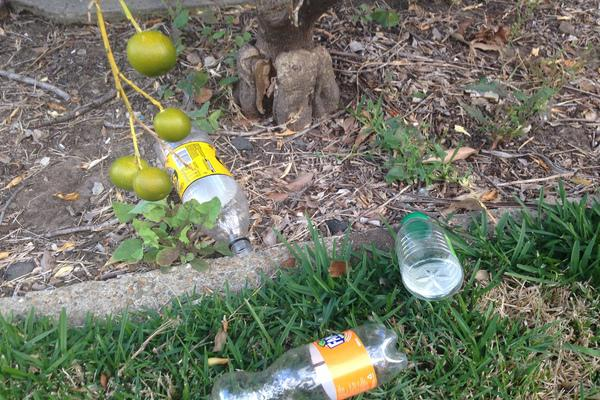Plastic Bottle: (208, 323, 409, 400), (154, 128, 252, 255), (396, 212, 463, 302)
